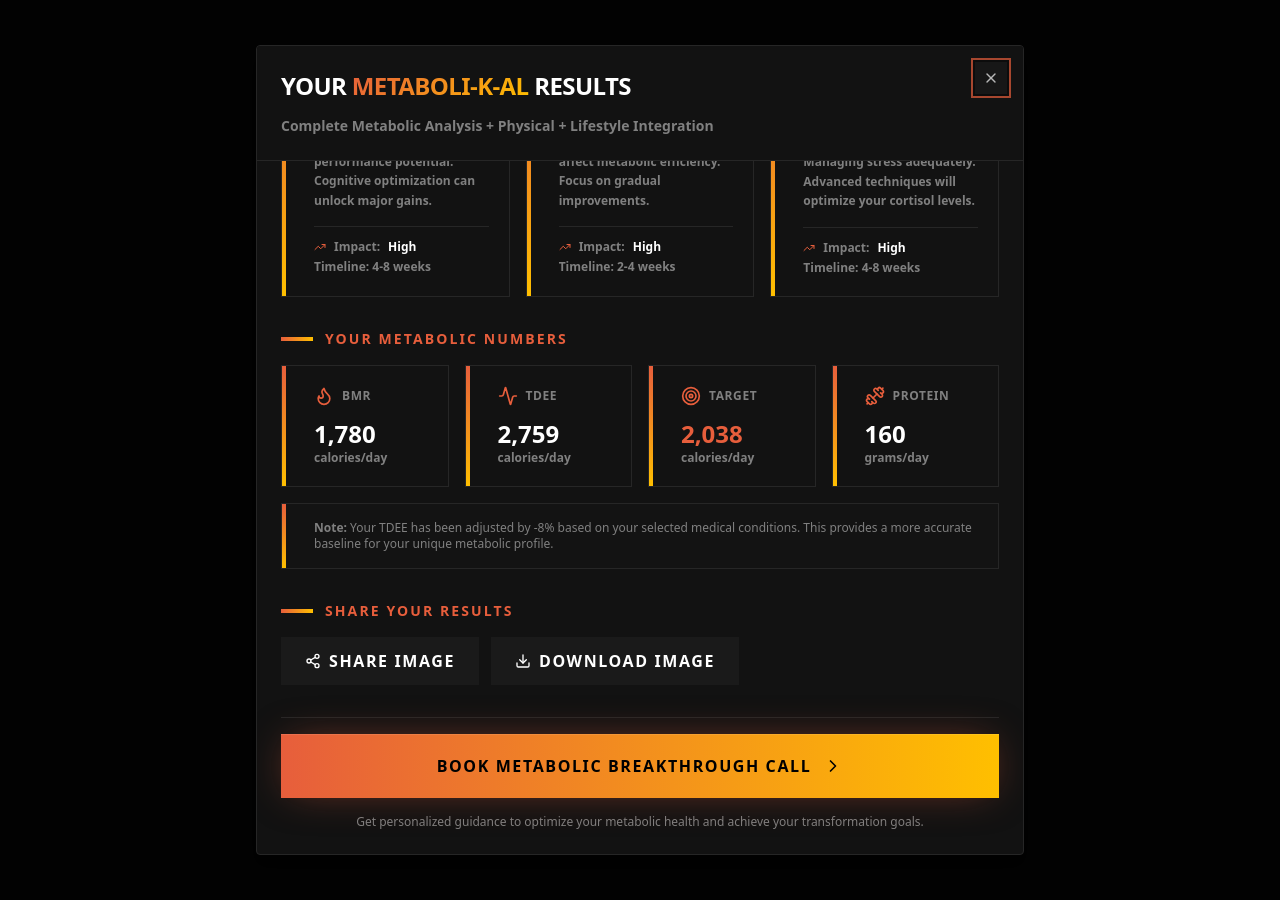
it: ResultsModal › Share Image handler › shows Copy Text button after share fallback
The width and height of the screenshot is (1280, 900).
(page scrolled)
Click the button "Share Image" at (380, 660), box [281, 636, 479, 684]
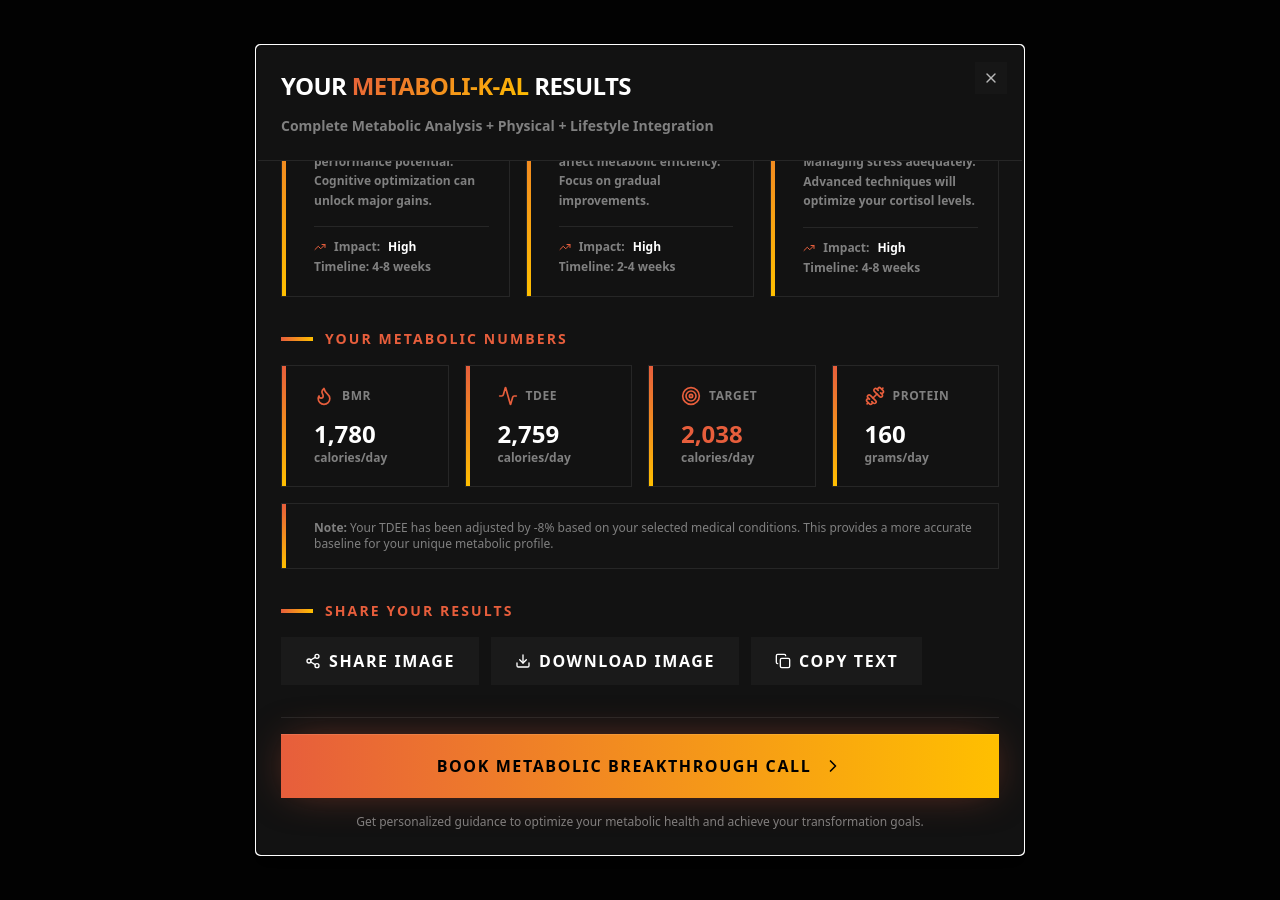
Check: the button "Copy Text" is shown, box [751, 636, 922, 684]
